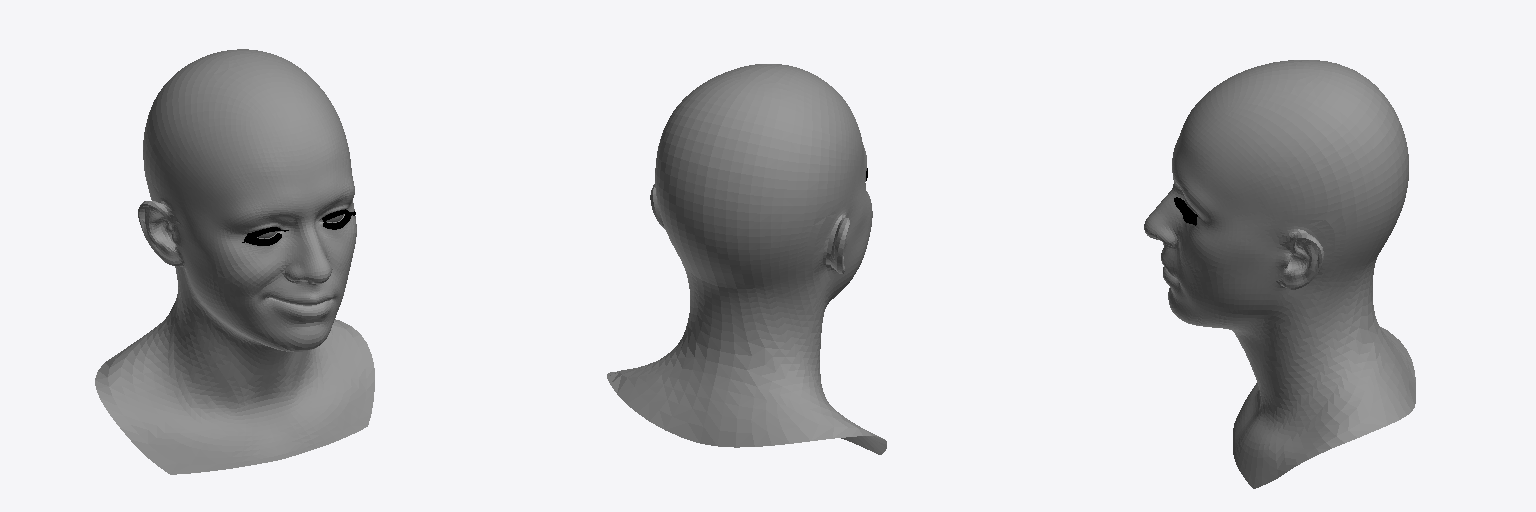
File: mouthSmile_R.obj
The picture shows the model from 3 angles: view 1: azimuth 30°, elevation 25°; view 2: azimuth 150°, elevation 25°; view 3: azimuth 270°, elevation 25°; orthographic projection.
Bounding box in the file's own units: 24.83 × 33.81 × 22.31.